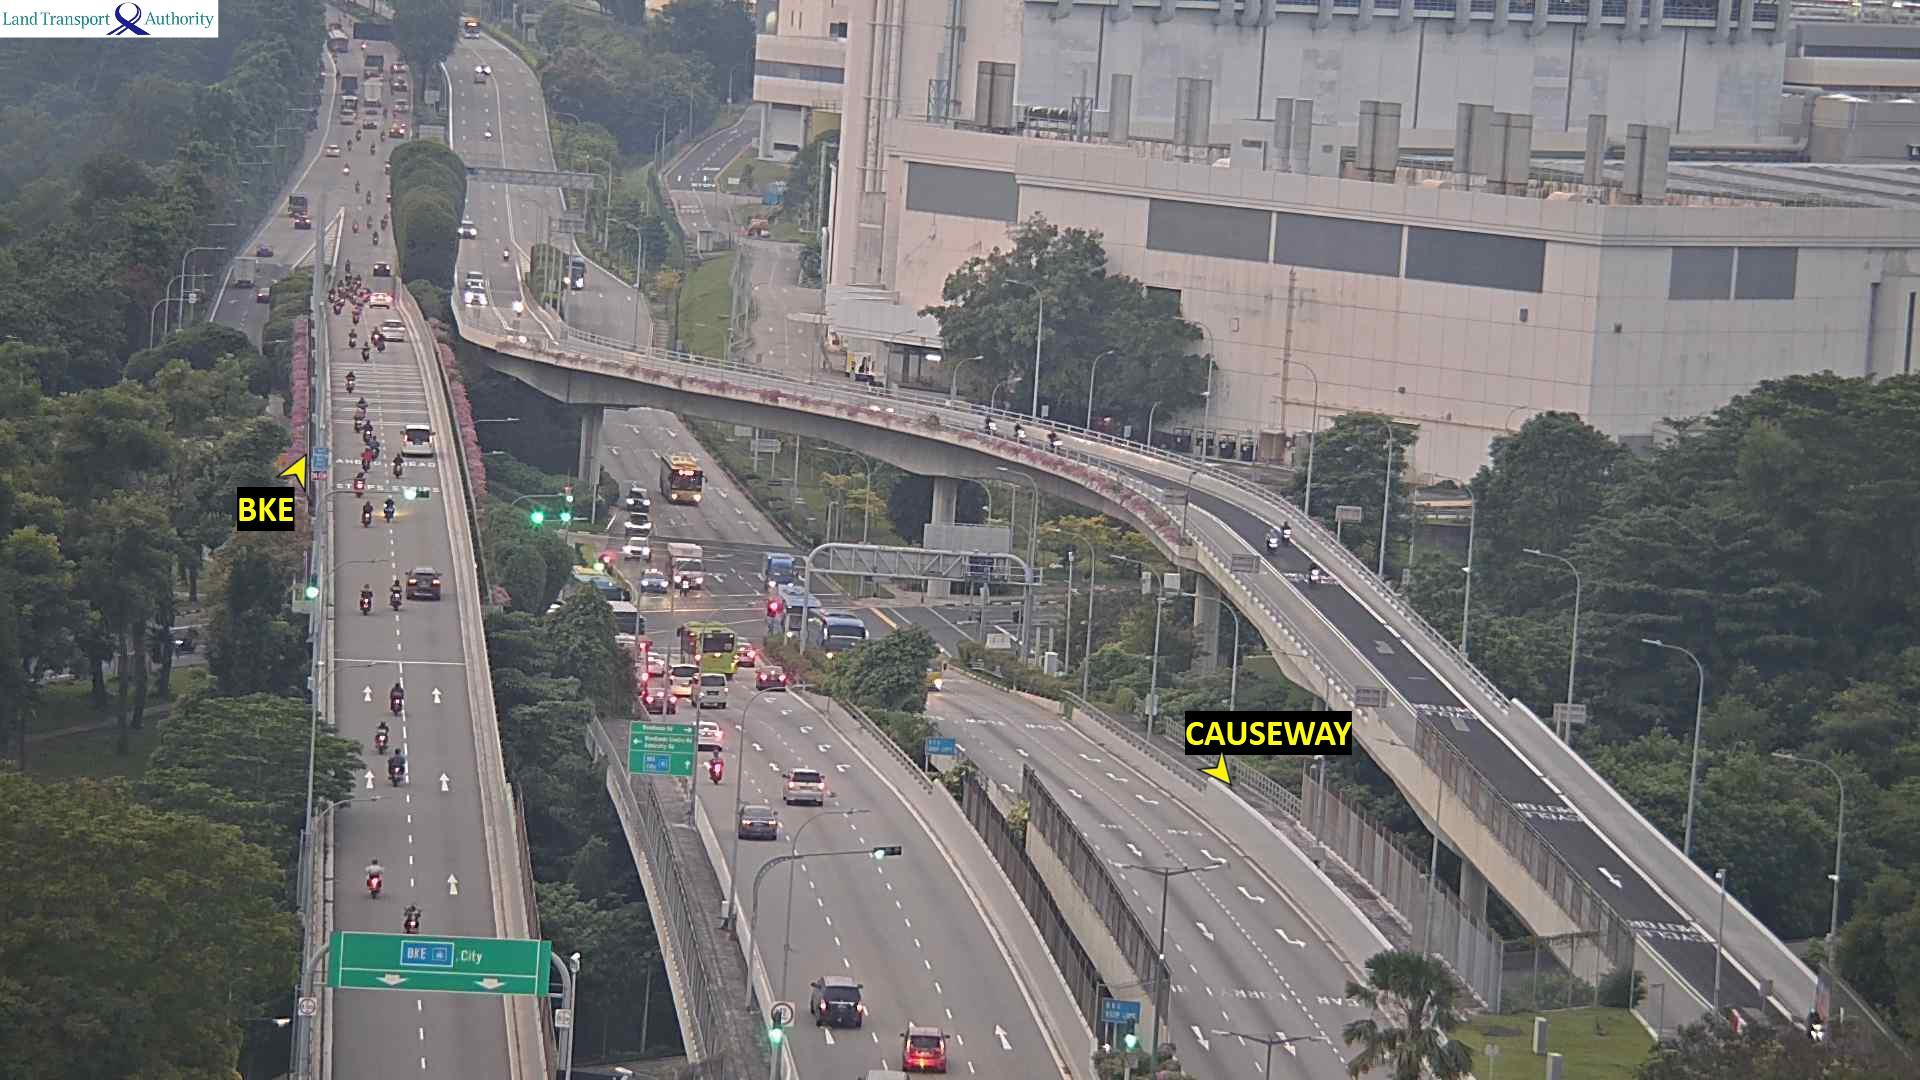vehicle-causeway-johor: (809, 609, 867, 653), (775, 592, 820, 647), (761, 552, 794, 591), (465, 289, 486, 306), (978, 417, 996, 435), (463, 272, 482, 289), (1263, 530, 1277, 551), (1014, 422, 1027, 441), (1308, 561, 1319, 583), (1281, 521, 1292, 542), (1050, 431, 1061, 451), (513, 299, 522, 319), (504, 248, 509, 259)
vehicle-causeway-singapore: (680, 621, 736, 675), (810, 973, 861, 1031), (901, 1019, 947, 1070), (781, 769, 824, 808), (739, 806, 779, 839), (408, 564, 443, 601), (398, 424, 433, 458), (693, 673, 725, 707), (641, 684, 676, 712), (669, 666, 698, 693), (753, 665, 787, 688), (389, 681, 405, 713), (367, 860, 381, 893), (390, 580, 404, 612), (736, 639, 754, 663), (403, 905, 419, 932), (385, 319, 405, 338), (712, 750, 723, 784), (356, 398, 367, 430), (392, 747, 402, 782), (359, 501, 373, 526), (384, 500, 397, 525), (360, 581, 369, 614), (392, 452, 402, 480), (361, 447, 372, 471), (370, 435, 381, 458), (374, 721, 382, 750), (347, 328, 356, 347), (356, 473, 363, 497), (364, 421, 373, 439), (371, 325, 380, 341), (362, 342, 368, 364), (378, 339, 387, 352), (347, 372, 353, 390)
